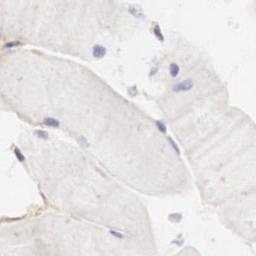nucleus: (167, 136, 180, 155), (174, 79, 193, 91), (92, 44, 106, 60), (167, 211, 184, 224), (155, 118, 167, 134), (154, 24, 164, 42), (129, 7, 145, 18), (169, 63, 180, 78), (43, 116, 59, 126), (77, 135, 89, 148), (109, 229, 125, 238), (150, 59, 158, 76), (15, 148, 25, 161), (36, 129, 47, 137), (171, 240, 184, 246), (128, 87, 137, 95), (5, 41, 16, 47), (177, 233, 184, 239)
positive_cell: (10, 142, 25, 162), (1, 40, 24, 49)
